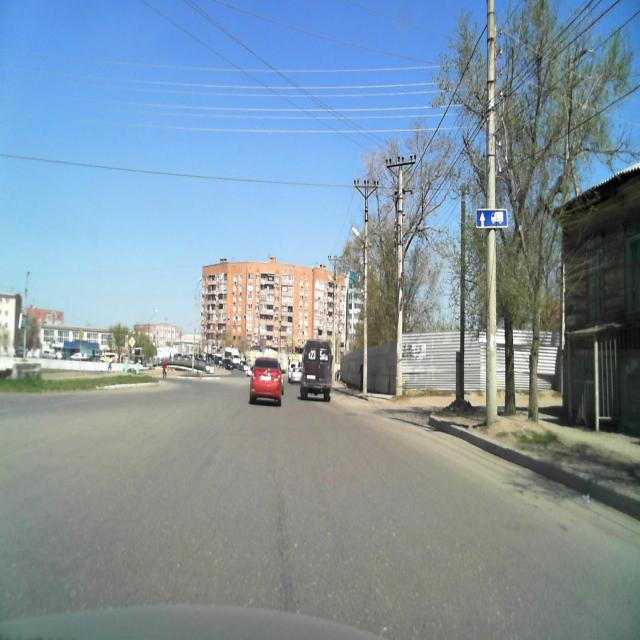road sign: (476, 208, 508, 227), (129, 336, 136, 347), (78, 331, 84, 340)
